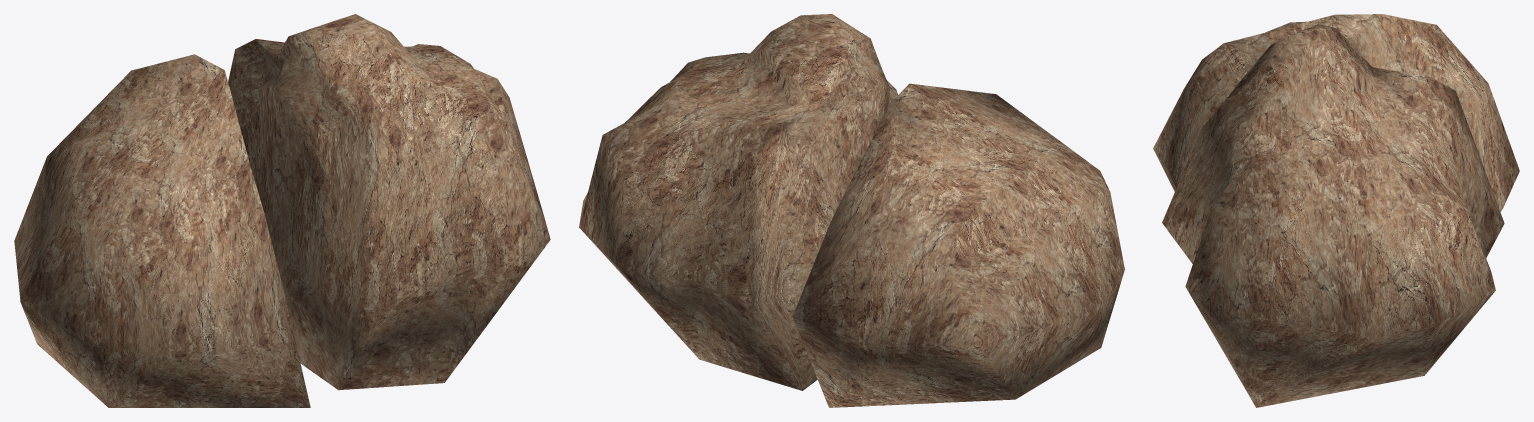
File: rock_tatt_boulder_tan_a2_l1.fbx
The picture shows the model from 3 angles, left to right: view 1: azimuth 30°, elevation 25°; view 2: azimuth 150°, elevation 25°; view 3: azimuth 270°, elevation 25°; orthographic projection. The views are drawn at different scales.
Parts seen in each view (by area): view 1: mesh_node; view 2: mesh_node; view 3: mesh_node.
Part boxes in pixels (x1,y1,x2,y2): mesh_node: (14, 14, 550, 407); mesh_node: (579, 14, 1124, 407); mesh_node: (1153, 14, 1519, 407).
Bounding box in the file's own units: 9.41 × 6.24 × 6.08.
